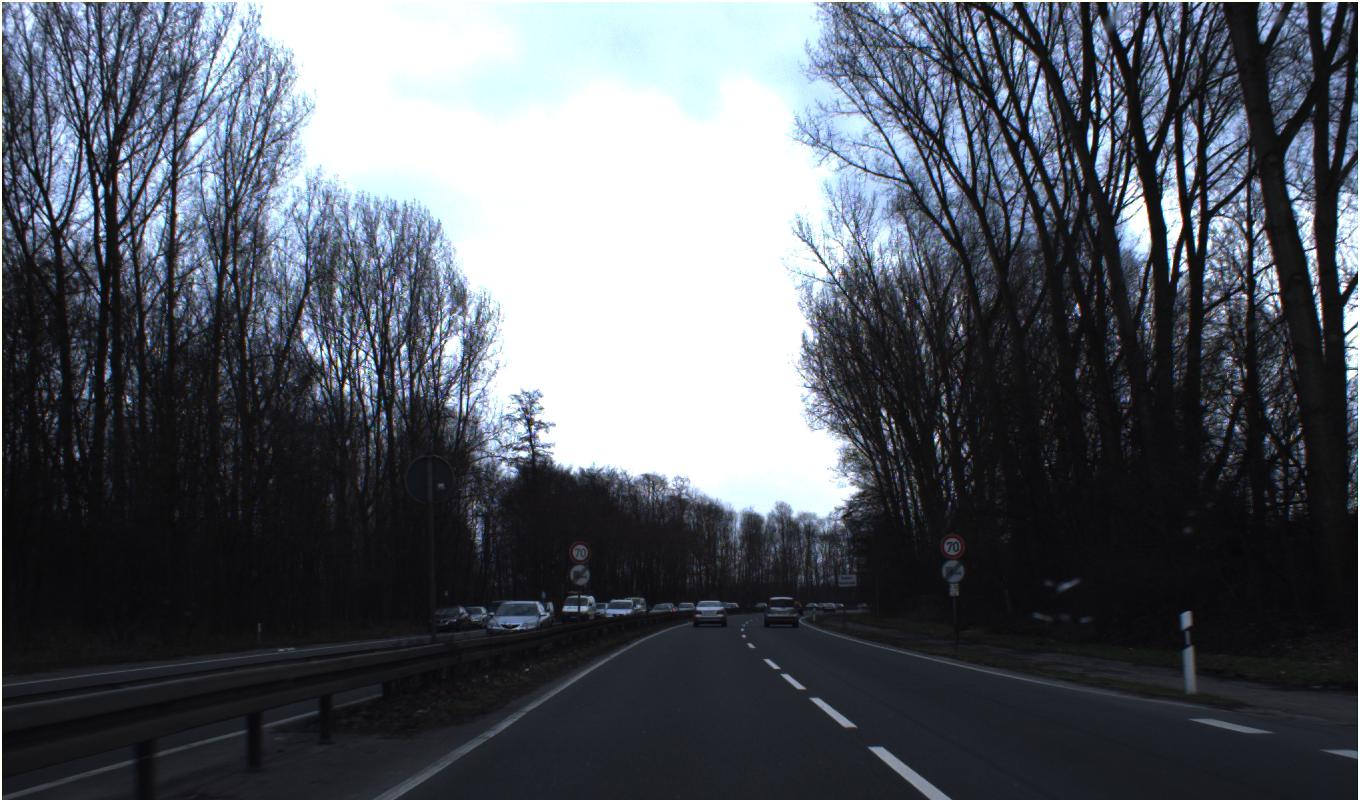prohibitory: (939, 532, 965, 559), (568, 540, 592, 564)
sign: (940, 558, 966, 584), (568, 563, 591, 587)
